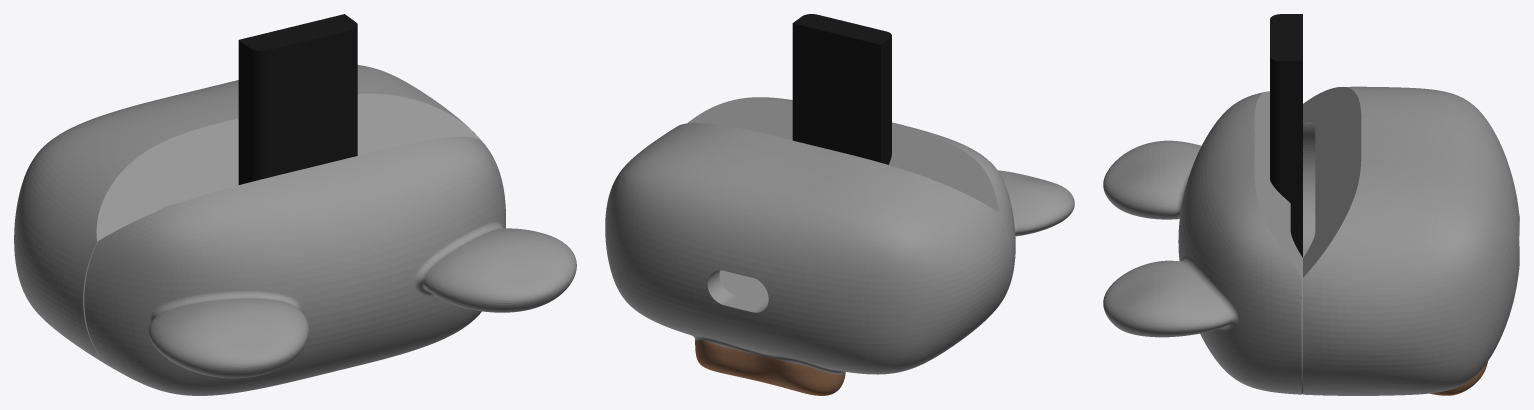
Rendered from 1015 - AirPods 保護殼（渲染）.glb.
3 views of the same model, side by side, from view 1: azimuth 30°, elevation 25°; view 2: azimuth 150°, elevation 25°; view 3: azimuth 270°, elevation 25° (orthographic). The views are drawn at different scales.
Size of the model in its own units: 73.81 by 60.39 by 66.87.
